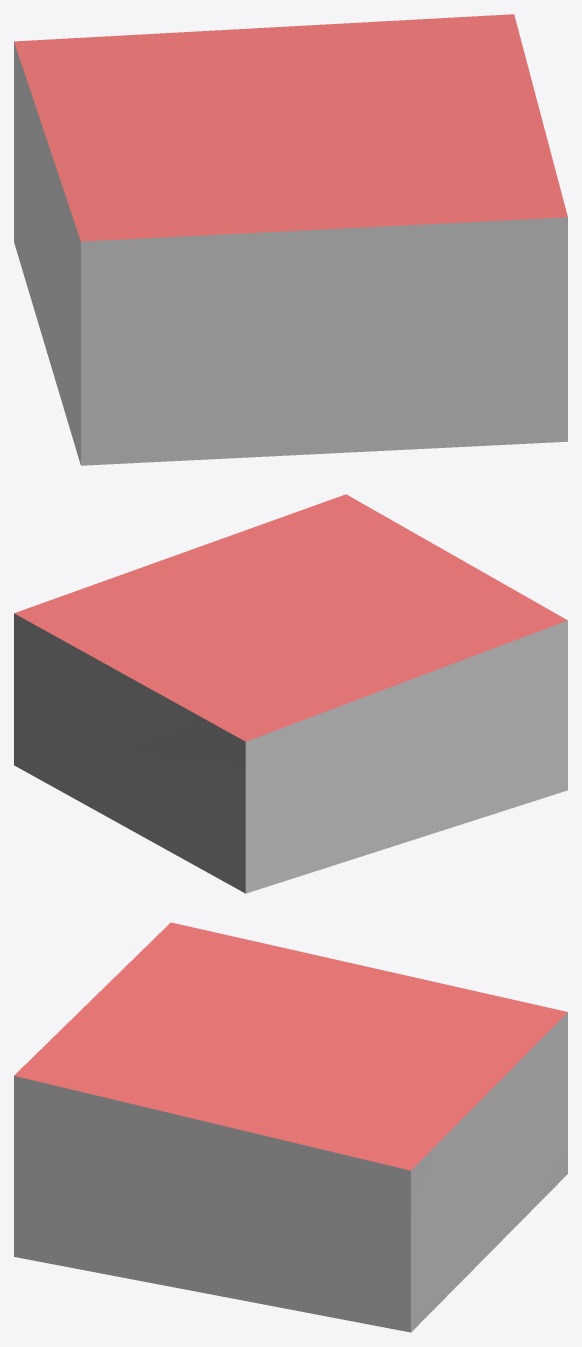
The model's file is DEBY_LOD2_4908167.gltf.
3 renders of one model, top to bottom at view 1: azimuth 30°, elevation 25°; view 2: azimuth 150°, elevation 25°; view 3: azimuth 270°, elevation 25°, orthographic. The views are drawn at different scales.
Visible parts, largest first — view 1: Z_UP; view 2: Z_UP; view 3: Z_UP.
Boxes of the visible parts, <box> form: Z_UP: <box>14,14,567,465</box>; Z_UP: <box>14,494,567,893</box>; Z_UP: <box>14,922,567,1332</box>.
Size of the model in its own units: 7.54 by 2.78 by 7.7.
